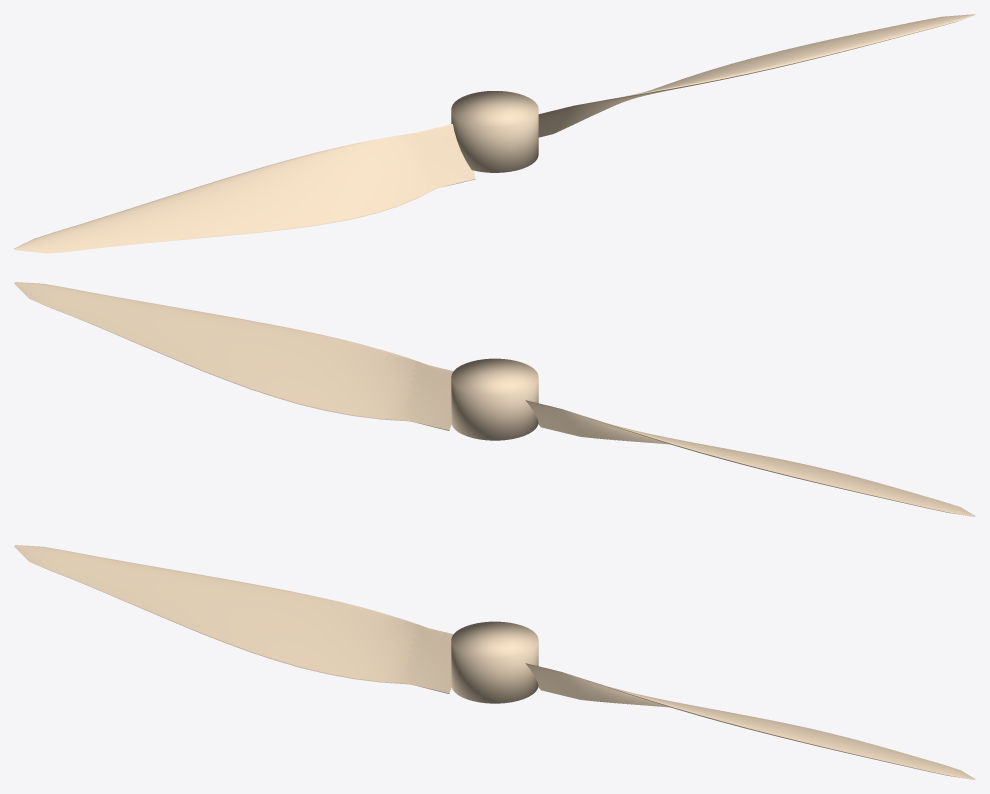
The model's file is prop_right.glb.
3 renders of one model, top to bottom at view 1: azimuth 30°, elevation 25°; view 2: azimuth 150°, elevation 25°; view 3: azimuth 330°, elevation 25°, orthographic.
Parts seen in each view (by area): view 1: blade_b, hub, blade_a; view 2: blade_a, hub, blade_b; view 3: blade_b, hub, blade_a.
Boxes of the visible parts, bbox=[...] form: blade_b: bbox=[14, 124, 475, 253]; hub: bbox=[451, 91, 538, 172]; blade_a: bbox=[538, 14, 975, 137]; blade_a: bbox=[14, 282, 453, 430]; hub: bbox=[451, 358, 538, 440]; blade_b: bbox=[525, 400, 975, 516]; blade_b: bbox=[14, 545, 453, 693]; hub: bbox=[451, 621, 538, 703]; blade_a: bbox=[525, 663, 975, 779].
Bounding box in the file's own units: 0.3556 × 0.0186 × 0.0371.
